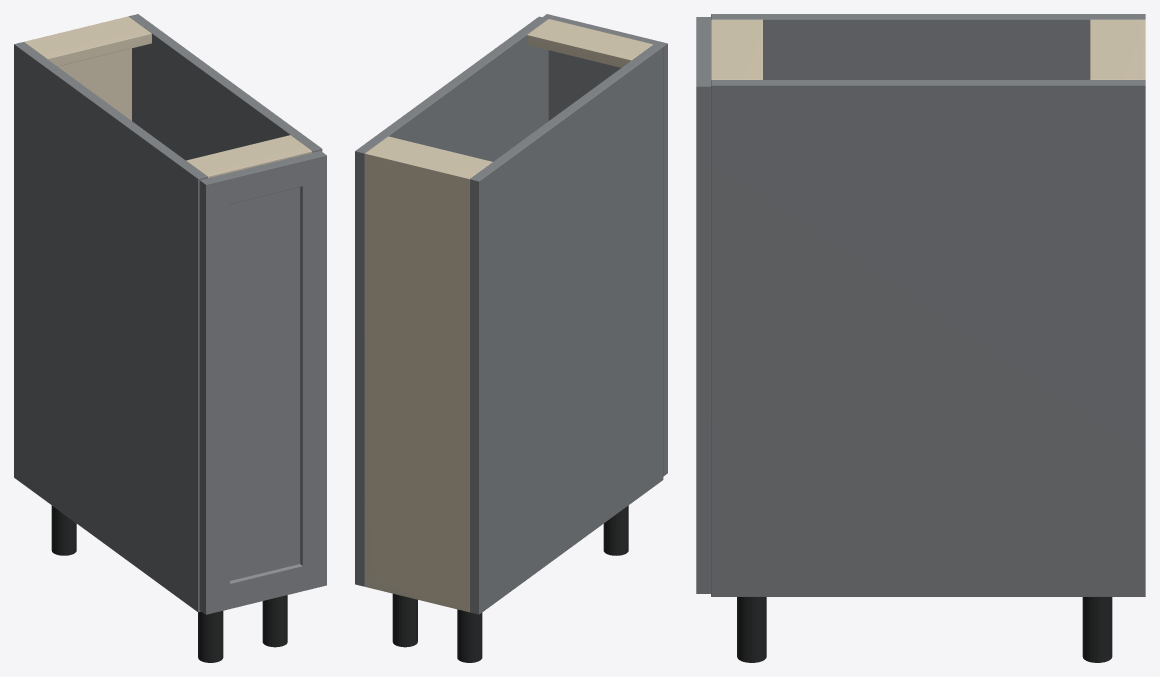
The model's file is oppein-ply-gss-b09fh.glb.
3 views of the same model, side by side, from view 1: azimuth 30°, elevation 25°; view 2: azimuth 150°, elevation 25°; view 3: azimuth 270°, elevation 25° (orthographic). The views are drawn at different scales.
Parts seen in each view (by area): view 1: Cabinet side, Door, Cabinet side.001, Cabinet back, Top support rail, Top support rail.001, Adjustable foot.001, Adjustable foot.003, Adjustable foot; view 2: Cabinet side, Cabinet back, Cabinet side.001, Door, Top support rail.001, Top support rail, Adjustable foot, Adjustable foot.002, Adjustable foot.001, Cabinet bottom; view 3: Cabinet side.001, Cabinet side, Door, Top support rail.001, Top support rail, Adjustable foot.002, Adjustable foot.003.
Part boxes in pixels (x1,y1,x2,y2): Cabinet side: (14, 42, 207, 612); Door: (199, 151, 326, 614); Cabinet side.001: (129, 14, 322, 160); Cabinet back: (24, 16, 131, 120); Top support rail: (26, 19, 151, 66); Top support rail.001: (186, 135, 312, 178); Adjustable foot.001: (198, 611, 223, 662); Adjustable foot.003: (262, 595, 287, 647); Adjustable foot: (51, 505, 76, 555); Cabinet side: (469, 44, 663, 614); Cabinet back: (365, 151, 472, 611); Cabinet side.001: (355, 16, 548, 586); Door: (543, 14, 667, 476); Top support rail.001: (527, 19, 652, 67); Top support rail: (369, 136, 492, 176); Adjustable foot: (457, 609, 482, 662); Adjustable foot.002: (392, 593, 417, 647); Adjustable foot.001: (603, 505, 628, 555); Cabinet bottom: (365, 577, 469, 612); Cabinet side.001: (711, 80, 1145, 596); Cabinet side: (711, 14, 1145, 79); Door: (696, 17, 710, 593); Top support rail.001: (711, 19, 762, 79); Top support rail: (1090, 19, 1141, 79); Adjustable foot.002: (1082, 597, 1112, 662); Adjustable foot.003: (737, 597, 766, 662).
Size of the model in its own units: 0.2286 by 0.8763 by 0.6064.
